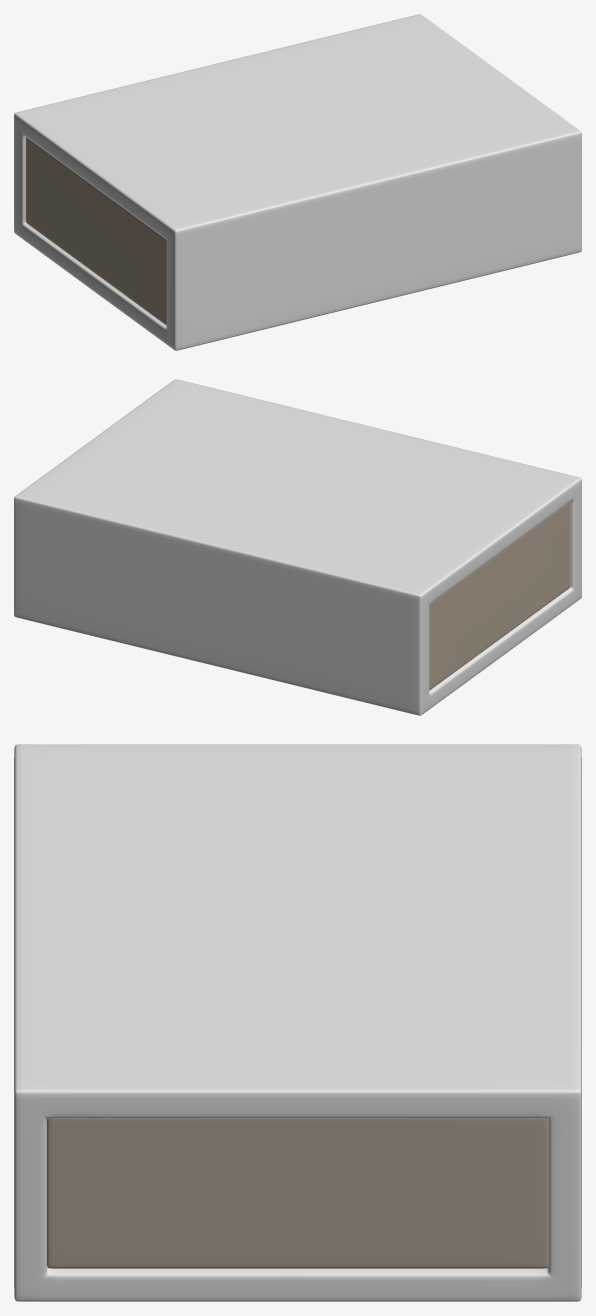
Rendered from matchBoxFinal3.fbx.
3 renders of one model, top to bottom at view 1: azimuth 30°, elevation 25°; view 2: azimuth 150°, elevation 25°; view 3: azimuth 270°, elevation 25°, orthographic. The views are drawn at different scales.
Visible parts, largest first — view 1: matchBox2, matchBox1; view 2: matchBox2, matchBox1; view 3: matchBox2, matchBox1.
Part boxes in pixels (box(x1,y1,x2,y2)): matchBox2: box(14, 14, 581, 350); matchBox1: box(26, 137, 166, 325); matchBox2: box(14, 379, 581, 715); matchBox1: box(429, 502, 569, 690); matchBox2: box(14, 744, 581, 1301); matchBox1: box(47, 1118, 548, 1268).
Size of the model in its own units: 72.31 by 20.54 by 49.8.
